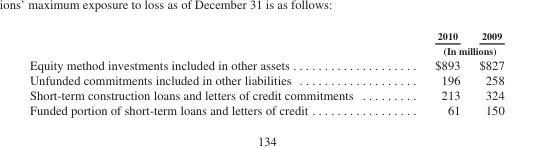table: (28, 29, 503, 117)
table column: (28, 29, 393, 117), (393, 29, 469, 117), (469, 29, 503, 117)
table column header: (28, 29, 503, 56)
table row: (28, 56, 503, 72), (28, 72, 503, 87), (28, 87, 503, 102), (28, 102, 503, 117), (28, 42, 503, 56), (28, 29, 503, 42)
table spanning cell: (393, 42, 503, 56)
